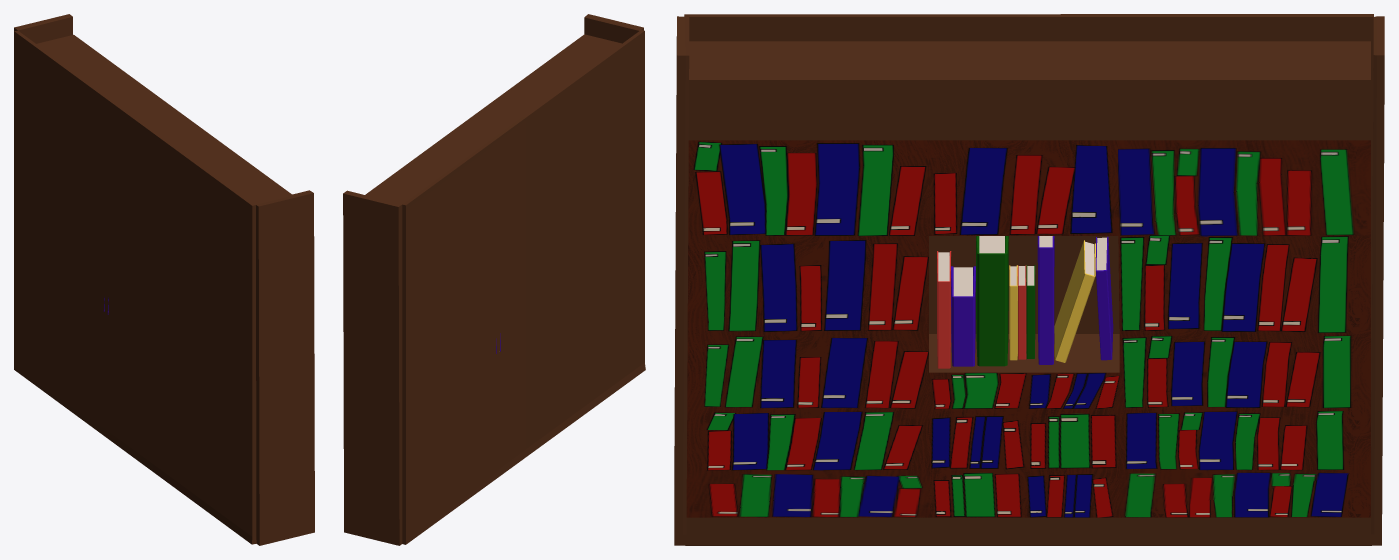
File: Estante.fbx
The picture shows the model from 3 angles, left to right: view 1: azimuth 30°, elevation 25°; view 2: azimuth 150°, elevation 25°; view 3: azimuth 270°, elevation 25°; orthographic projection. The views are drawn at different scales.
Parts seen in each view (by area): view 1: estante; view 2: estante; view 3: estante, livros.
Boxes of the visible parts, box(x1,y1,x2,y2) form: estante: box(14, 14, 314, 545); estante: box(343, 14, 645, 545); estante: box(674, 14, 1384, 545); livros: box(937, 236, 1113, 368).
Size of the model in its own units: 218 by 1183 by 1552.
